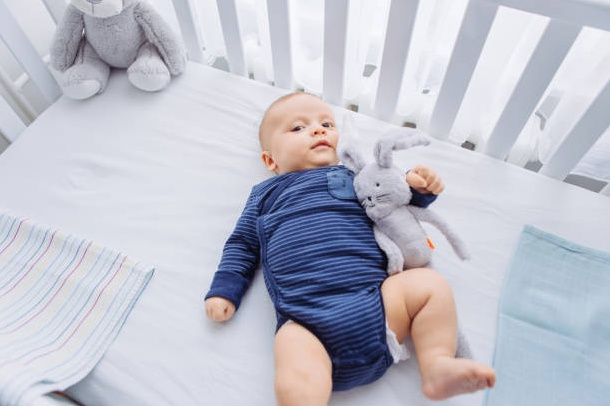baby: (206, 93, 494, 404)
crib: (0, 0, 609, 404)
